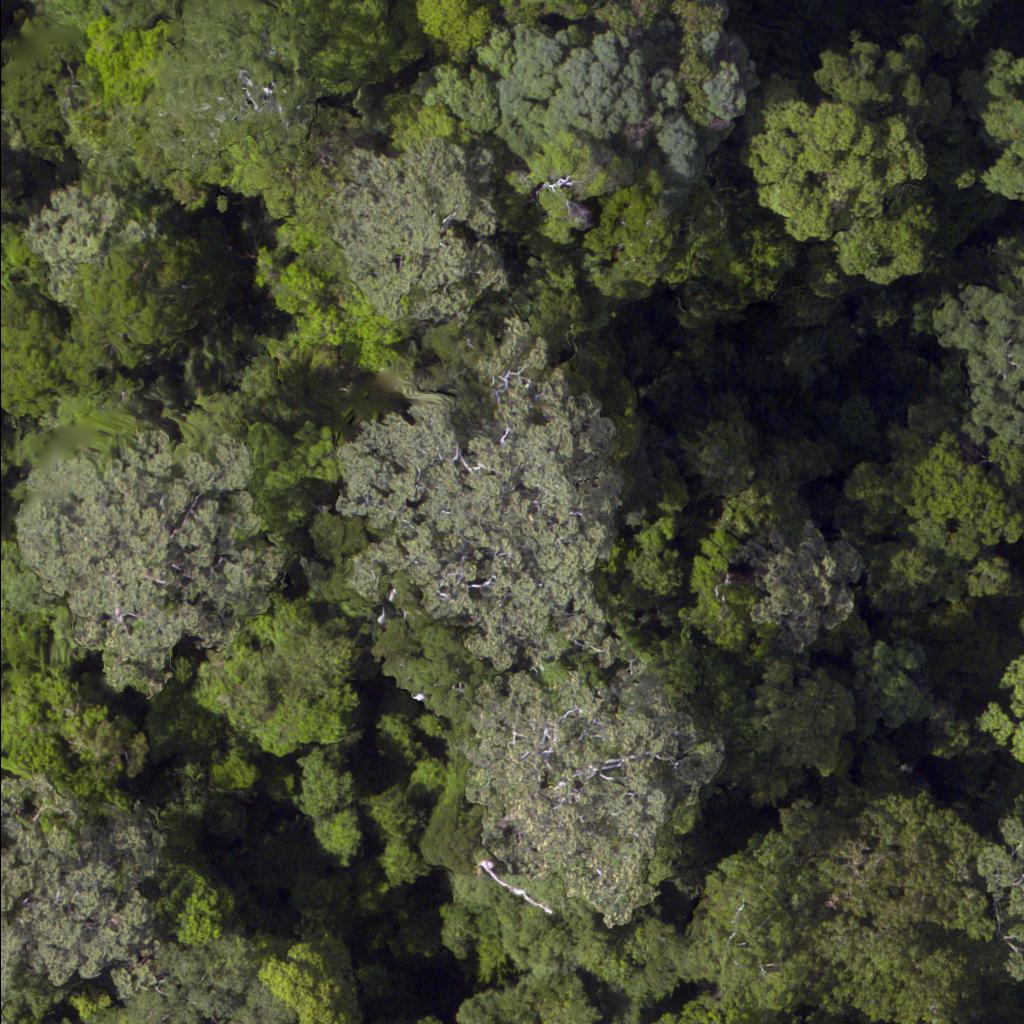crown: (0, 772, 169, 1023), (113, 933, 298, 1023), (453, 967, 606, 1023), (980, 822, 1023, 974), (986, 673, 1023, 764), (681, 1014, 757, 1023)
